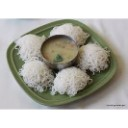idiyappam: (16, 61, 51, 89), (78, 42, 110, 71), (53, 67, 87, 92), (13, 35, 44, 61), (49, 24, 94, 41)
